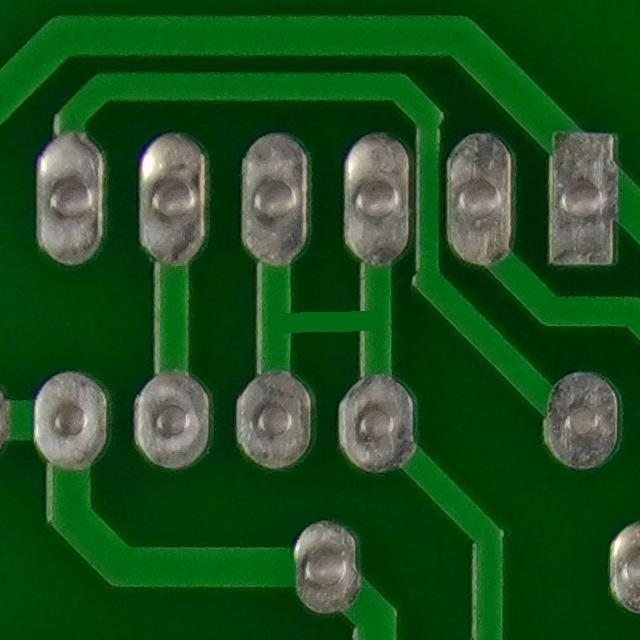short: (231, 286, 410, 355)
